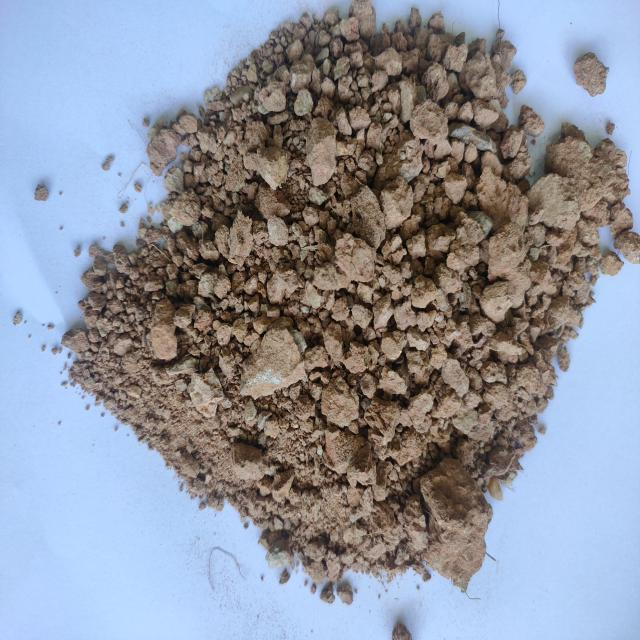soil: (200, 162, 530, 452)
